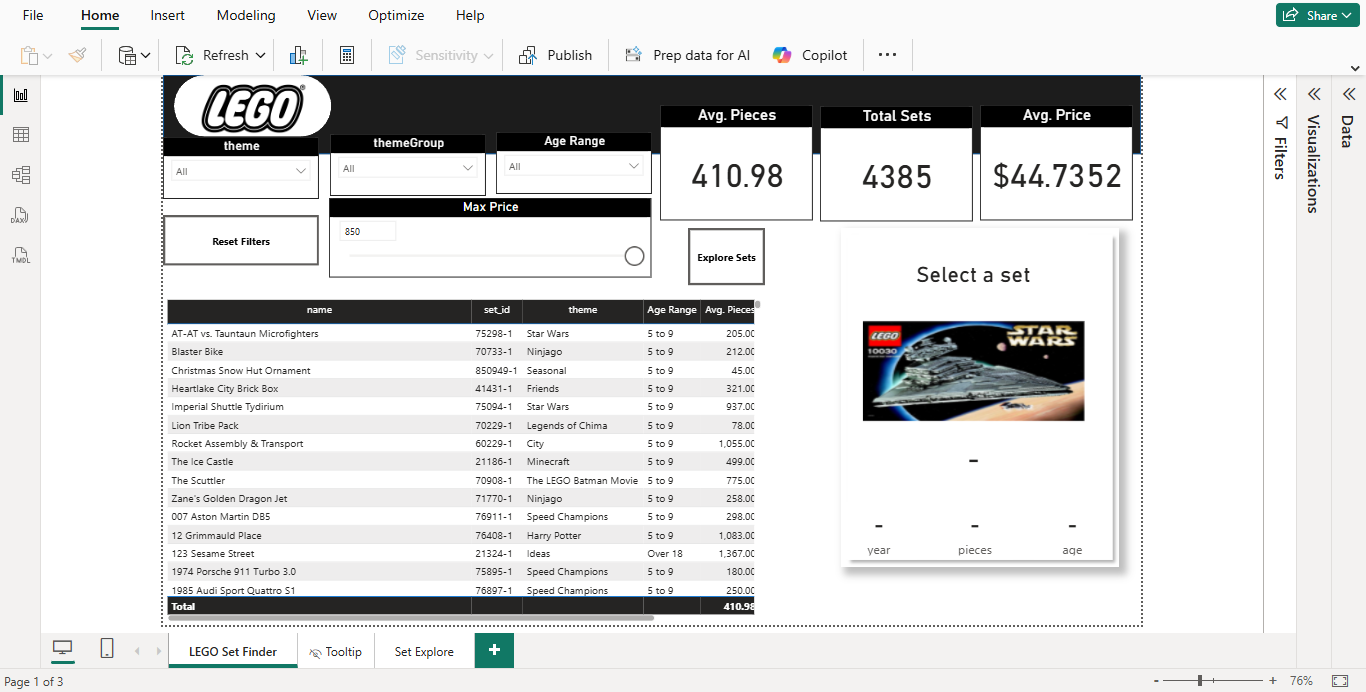

Layout of this report page (visuals, bound fields, positions):
{"tool":"powerbi","page":{"name":"LEGO Set Finder","canvas":[1280,720],"ordinal":0},"visuals":[{"type":"shape","box":[887,200.2,364.3,443.5],"z":500},{"type":"shape","box":[0,0,1280.2,103.7],"z":1000},{"type":"card","title":"Total Sets","fields":{"Values":["Measure Table.Total Sets"]},"box":[860.4,40.3,200.2,151.2],"z":2000},{"type":"card","title":"Avg. Pieces","fields":{"Values":["Measure Table.Avg. Pieces"]},"box":[650.9,38.9,200.2,151.2],"z":3000},{"type":"card","title":"Avg. Price","fields":{"Values":["Measure Table.Avg. Price"]},"box":[1069.9,38.9,200.2,151.2],"z":4000},{"type":"slicer","title":"theme","fields":{"Values":["lego_sets.theme"]},"box":[0,80.6,204.5,80.6],"z":5000},{"type":"slicer","title":"themeGroup","fields":{"Values":["lego_sets.themeGroup"]},"box":[218.2,77.8,204.5,80.6],"z":6000},{"type":"slicer","title":"Age Range","fields":{"Values":["lego_sets.Age Range"]},"box":[436.3,74.9,204.5,80.6],"z":7000},{"type":"tableEx","fields":{"Values":["lego_sets.name","lego_sets.set_id","lego_sets.theme","lego_sets.Age Range","Measure Table.Avg. Pieces","Measure Table.Avg. Price","lego_sets. Price Range"]},"box":[0,289.4,787.7,430.6],"z":8000},{"type":"card","fields":{"Values":["Measure Table.selected set"]},"box":[911.5,200.2,299.5,116.6],"z":9000},{"type":"simpleImageEBC4593F96F1425FB3D84C5BF02B5075","fields":{"imageURL":["lego_sets.imageURL"]},"box":[911.5,316.8,299.5,141.1],"z":10000},{"type":"card","fields":{"Values":["Measure Table.selected price"]},"box":[911.5,457.9,299.5,80.6],"z":11000},{"type":"card","fields":{"Values":["Measure Table.selected year"]},"box":[887,558.7,99.4,74.9],"z":12000},{"type":"card","fields":{"Values":["Measure Table.selected pieces"]},"box":[1013.8,558.7,99.4,74.9],"z":13000},{"type":"card","fields":{"Values":["Measure Table.selected age"]},"box":[1140.5,558.7,100.8,74.9],"z":14000},{"type":"slicer","title":"Max Price","fields":{"Values":["Max Price.Max Price"]},"box":[217.4,161.3,421.9,103.7],"z":15000},{"type":"actionButton","box":[0,182.9,204.5,66.2],"z":16000},{"type":"actionButton","box":[686.9,200.2,100.8,74.9],"z":17000},{"type":"shape","box":[14.4,0,205.9,80.6],"z":18000},{"type":"image","box":[10.1,0,216,87.8],"z":18500}]}

Visuals, with their boxes on the page's 1280x720 design canvas (x1, y1, x2, y2). These are canvas units, not pixel positions in the 1366x692 screenshot, which may show the page scaled, cropped or inside an application window:
shape: <bbox>887, 200, 1251, 644</bbox>
shape: <bbox>0, 0, 1280, 104</bbox>
"Total Sets" card: <bbox>860, 40, 1061, 192</bbox>
"Avg. Pieces" card: <bbox>651, 39, 851, 190</bbox>
"Avg. Price" card: <bbox>1070, 39, 1270, 190</bbox>
"theme" slicer: <bbox>0, 81, 204, 161</bbox>
"themeGroup" slicer: <bbox>218, 78, 423, 158</bbox>
"Age Range" slicer: <bbox>436, 75, 641, 156</bbox>
tableEx - lego_sets.name x lego_sets.set_id: <bbox>0, 289, 788, 720</bbox>
card - Measure Table.selected set: <bbox>912, 200, 1211, 317</bbox>
simpleImageEBC4593F96F1425FB3D84C5BF02B5075 - lego_sets.imageURL: <bbox>912, 317, 1211, 458</bbox>
card - Measure Table.selected price: <bbox>912, 458, 1211, 538</bbox>
card - Measure Table.selected year: <bbox>887, 559, 986, 634</bbox>
card - Measure Table.selected pieces: <bbox>1014, 559, 1113, 634</bbox>
card - Measure Table.selected age: <bbox>1140, 559, 1241, 634</bbox>
"Max Price" slicer: <bbox>217, 161, 639, 265</bbox>
actionButton: <bbox>0, 183, 204, 249</bbox>
actionButton: <bbox>687, 200, 788, 275</bbox>
shape: <bbox>14, 0, 220, 81</bbox>
image: <bbox>10, 0, 226, 88</bbox>
